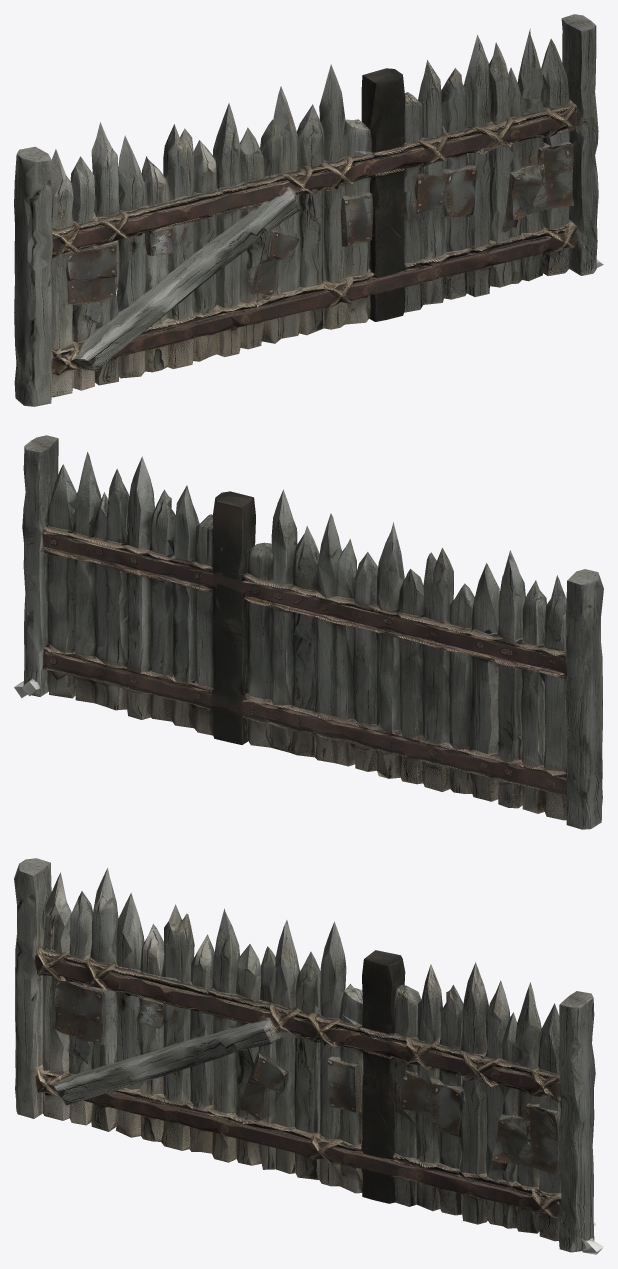
The model's file is palisade_d.glb.
3 renders of one model, top to bottom at view 1: azimuth 30°, elevation 25°; view 2: azimuth 150°, elevation 25°; view 3: azimuth 330°, elevation 25°, orthographic.
Parts seen in each view (by area): view 1: mesh_node; view 2: mesh_node; view 3: mesh_node.
Boxes of the visible parts, x1,y1,x2,y2 form: mesh_node: (14, 14, 603, 406); mesh_node: (14, 435, 603, 829); mesh_node: (14, 858, 603, 1254).
Bounding box in the file's own units: 1.9 × 0.8469 × 0.1702.
1 material, 1 textured.
